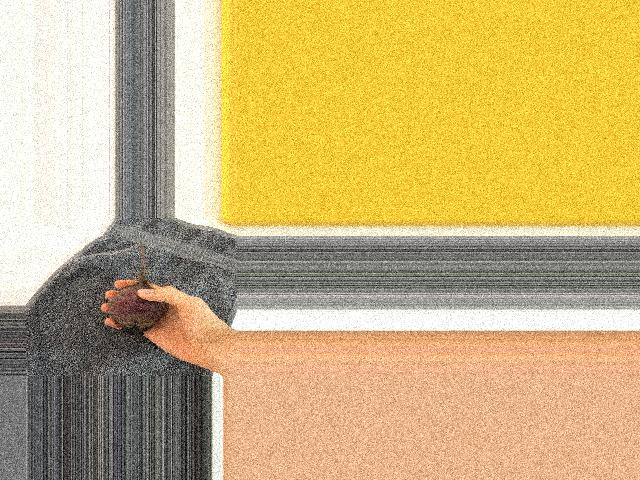beet: (107, 240, 165, 335)
